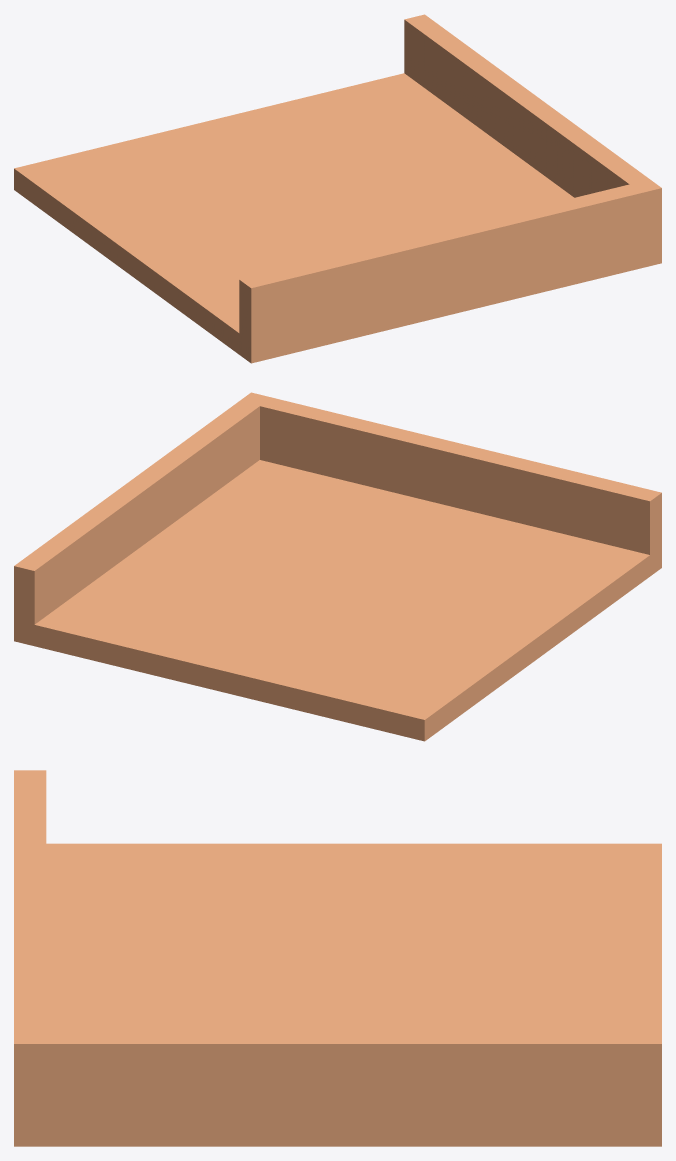
File: BeigeRoof_Corner.glb
The picture shows the model from 3 angles, top to bottom: view 1: azimuth 30°, elevation 25°; view 2: azimuth 150°, elevation 25°; view 3: azimuth 270°, elevation 25°; orthographic projection. The views are drawn at different scales.
Visible parts, largest first — view 1: roof_flat_corner_beige; view 2: roof_flat_corner_beige; view 3: roof_flat_corner_beige.
Part boxes in pixels (box(x1,y1,x2,y2)): roof_flat_corner_beige: box(14, 14, 661, 363); roof_flat_corner_beige: box(14, 392, 661, 741); roof_flat_corner_beige: box(14, 770, 661, 1146).
Bounding box in the file's own units: 4 × 0.7 × 4.
1 material, 1 textured.
